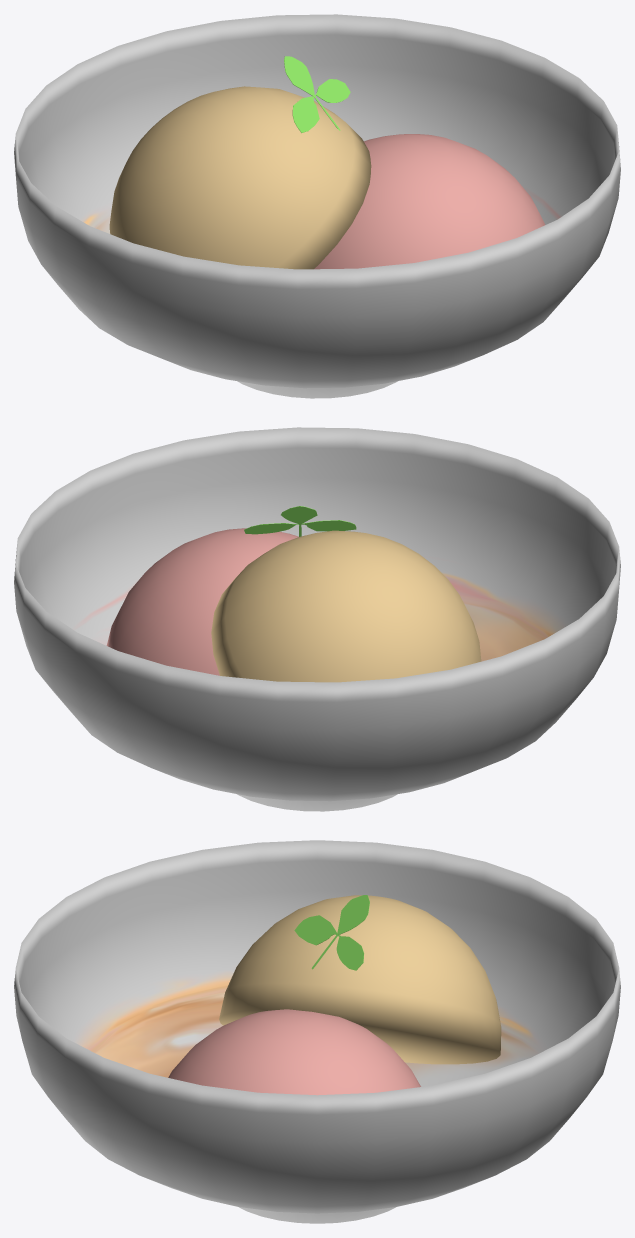
File: Ice.fbx
3 views of the same model, one above another, from view 1: azimuth 30°, elevation 25°; view 2: azimuth 150°, elevation 25°; view 3: azimuth 270°, elevation 25° (orthographic).
Visible parts, largest first — view 1: 円柱, 球.001, 球, 平面; view 2: 円柱, 球.001, 球, 平面; view 3: 円柱, 球.001, 球, 平面.
Boxes of the visible parts, x1=… form: 円柱: x1=14, y1=14, x2=620, y2=398; 球.001: x1=109, y1=86, x2=371, y2=269; 球: x1=314, y1=134, x2=545, y2=269; 平面: x1=284, y1=56, x2=350, y2=132; 円柱: x1=14, y1=427, x2=620, y2=811; 球.001: x1=211, y1=530, x2=481, y2=682; 球: x1=106, y1=528, x2=298, y2=675; 平面: x1=244, y1=506, x2=356, y2=536; 円柱: x1=14, y1=840, x2=620, y2=1223; 球.001: x1=219, y1=895, x2=501, y2=1064; 球: x1=168, y1=1009, x2=420, y2=1095; 平面: x1=294, y1=895, x2=369, y2=970.
Size of the model in its own units: 162 by 83.36 by 162.
